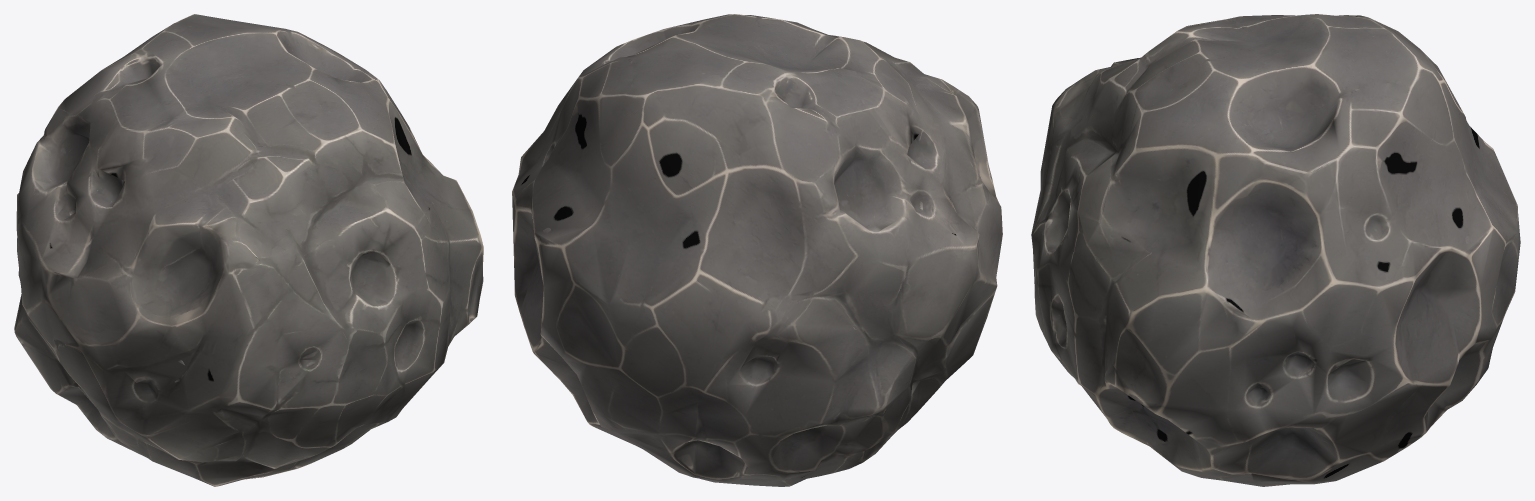
File: MDL_Meteor_CrateredAsteroid.fbx
The picture shows the model from 3 angles, left to right: view 1: azimuth 30°, elevation 25°; view 2: azimuth 150°, elevation 25°; view 3: azimuth 270°, elevation 25°; orthographic projection. The views are drawn at different scales.
Parts seen in each view (by area): view 1: Mesh1.0; view 2: Mesh1.0; view 3: Mesh1.0.
Boxes of the visible parts, x1,y1,x2,y2 form: Mesh1.0: [14, 14, 483, 486]; Mesh1.0: [512, 14, 1002, 486]; Mesh1.0: [1031, 14, 1520, 486].
Size of the model in its own units: 192 by 187 by 189.
1 material, 1 textured.
